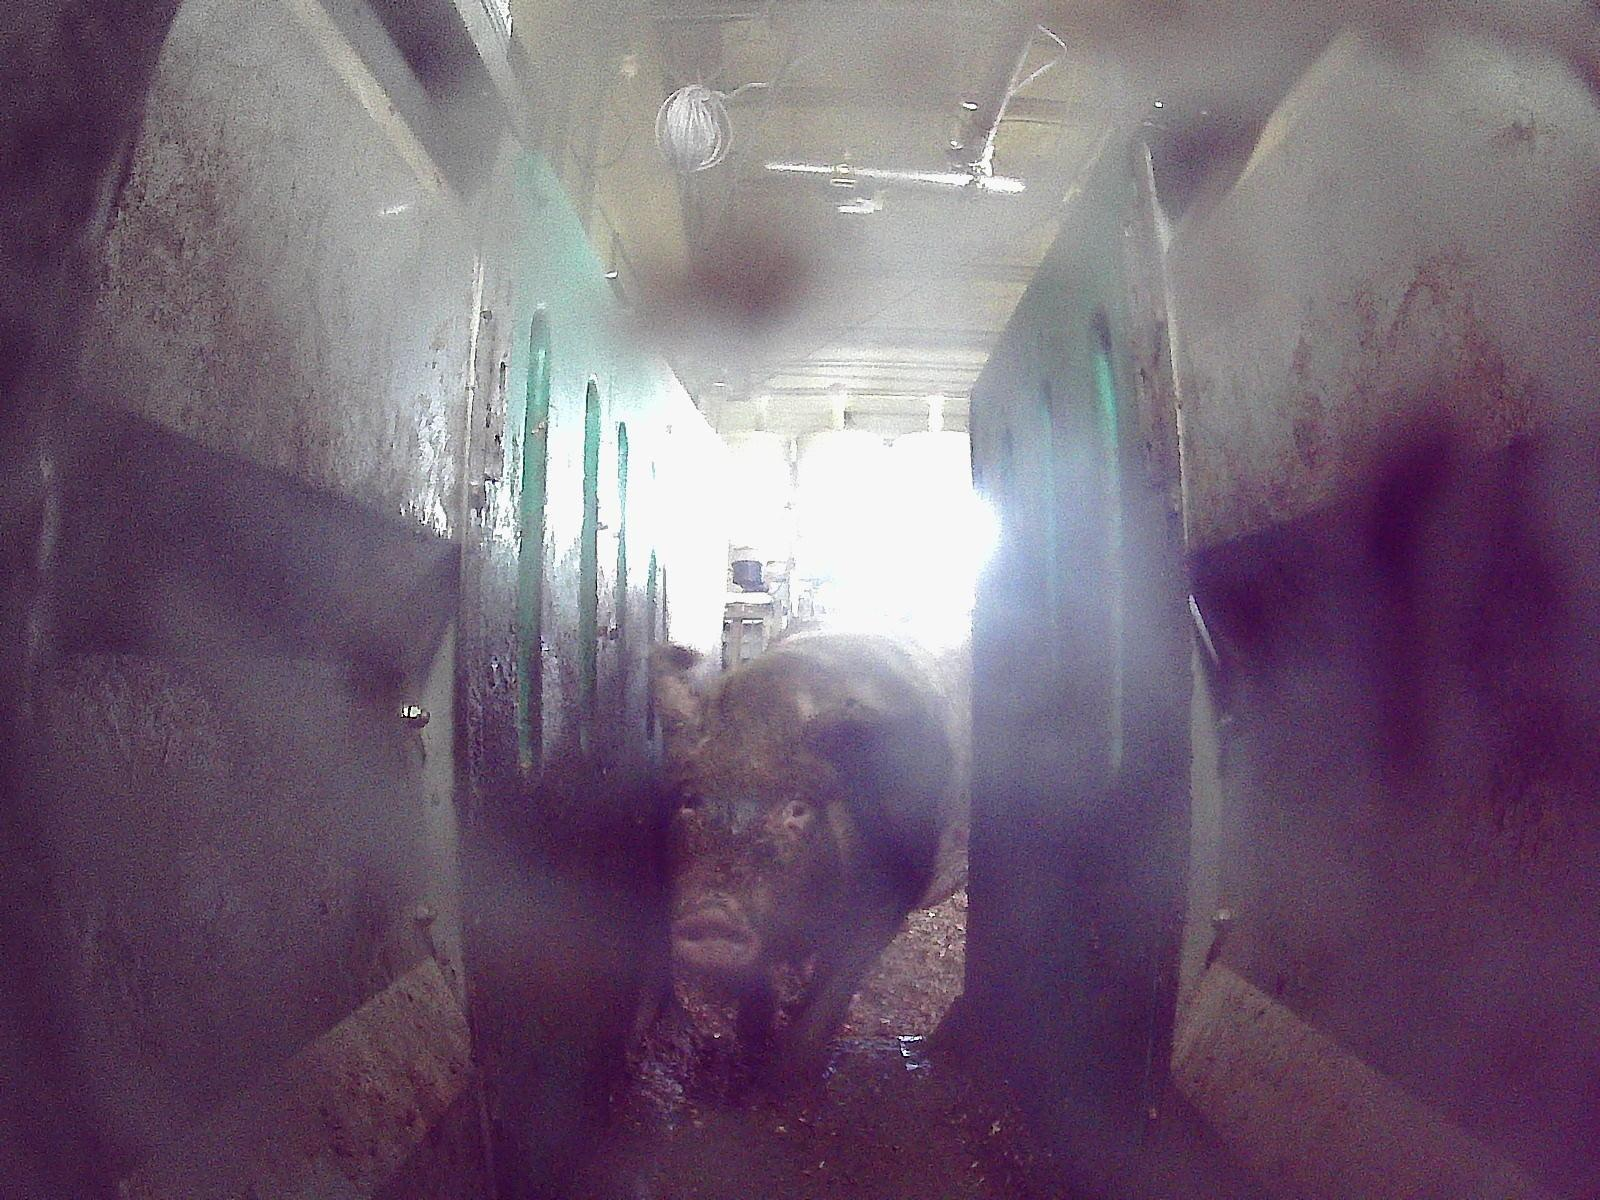Face: (668, 659, 855, 983)
